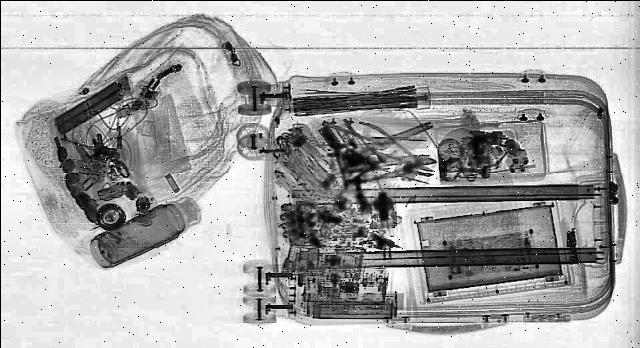Pliers: (337, 118, 449, 176)
